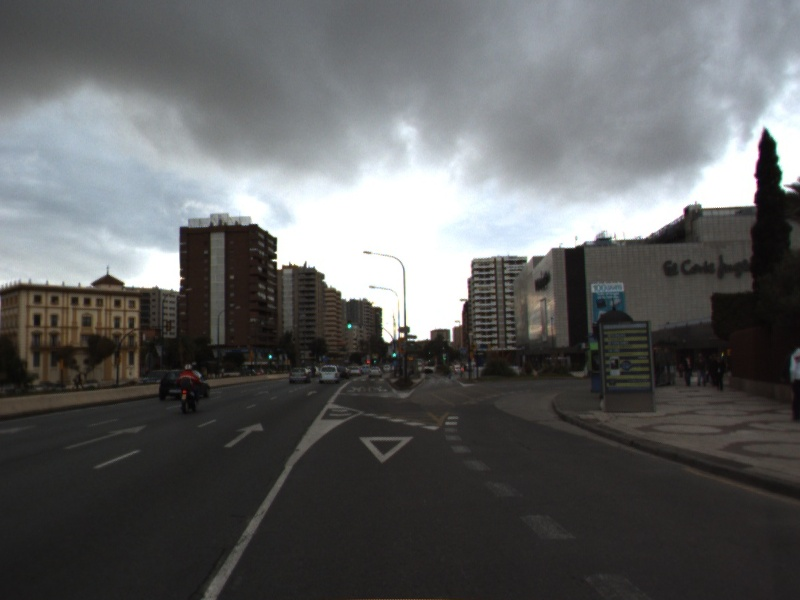STRAIGHT: (61, 422, 152, 452), (221, 421, 267, 451)
